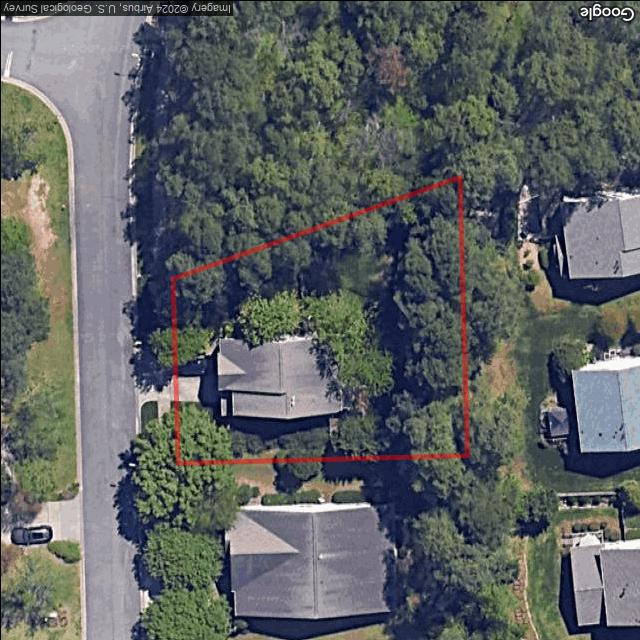Driveway: (177, 349, 217, 403)
Extra-Driveway: (134, 365, 177, 403)
Extra-Lawn: (140, 400, 159, 463)
Extra-Sidewalk: (157, 400, 176, 464)
House: (215, 333, 347, 419)
Lawn: (172, 176, 466, 462)
